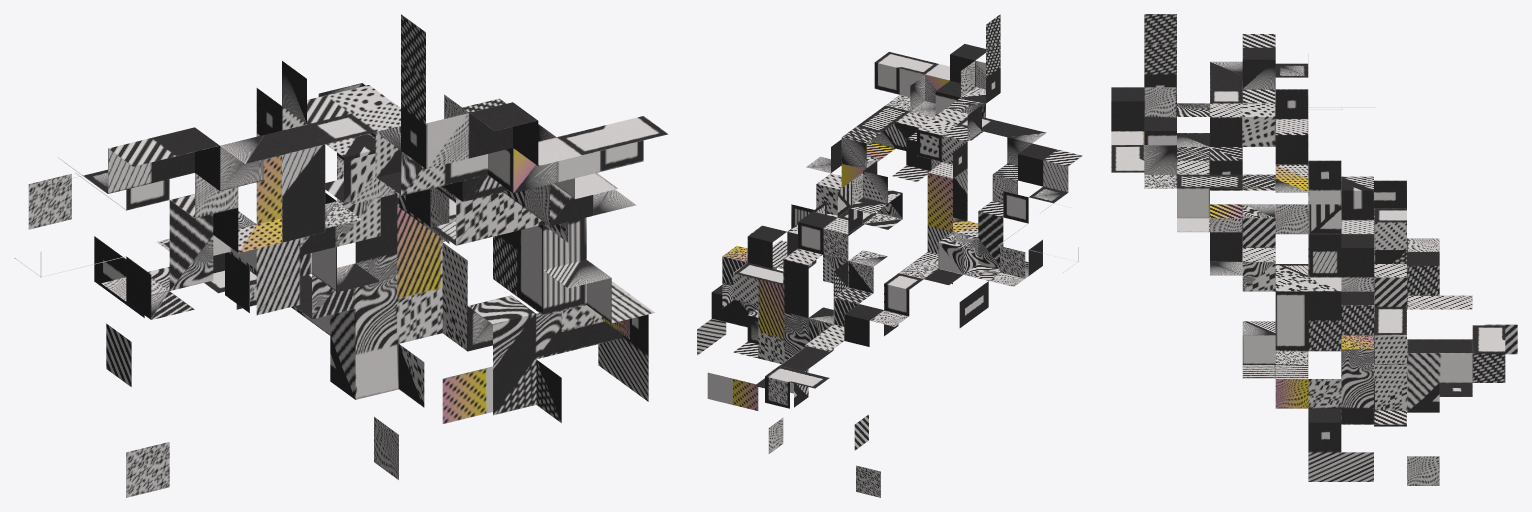
Rendered from rocnikovka menu 3.fbx.
3 renders of one model, left to right at view 1: azimuth 30°, elevation 25°; view 2: azimuth 150°, elevation 25°; view 3: azimuth 270°, elevation 25°, orthographic. The views are drawn at different scales.
Visible parts, largest first — view 1: Plane_1; view 2: Plane_1; view 3: Plane_1.
Part boxes in pixels (x1,y1,x2,y2): Plane_1: (15,14,668,497); Plane_1: (697,14,1082,497); Plane_1: (1111,14,1517,485).
Bounding box in the file's own units: 140 × 140 × 124.
Materials: 1 (1 with a texture image).
